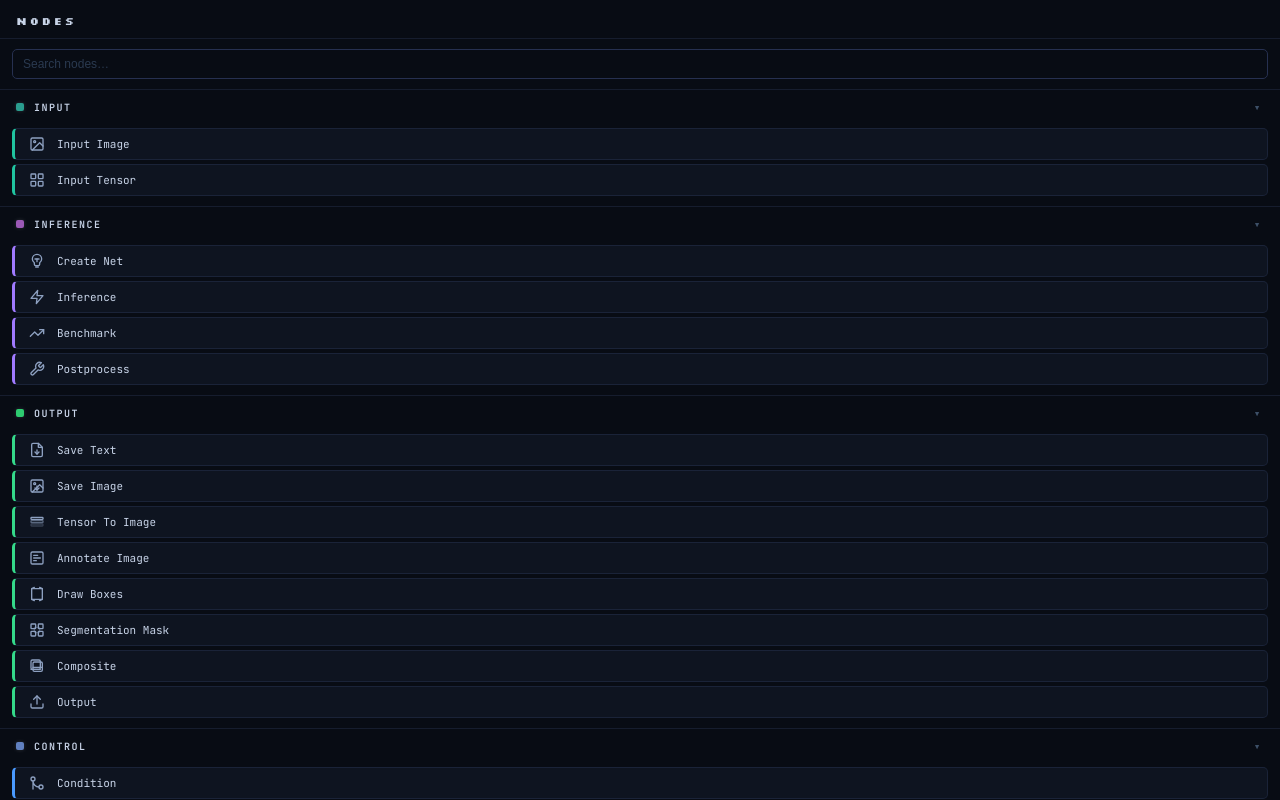
Test: NodePalette search › Escape clears the query and restores the full list
In the field labelled "Search nodes": (640, 64) top-left (12, 49), bottom-right (1268, 79), type "zzzqqq__nope"
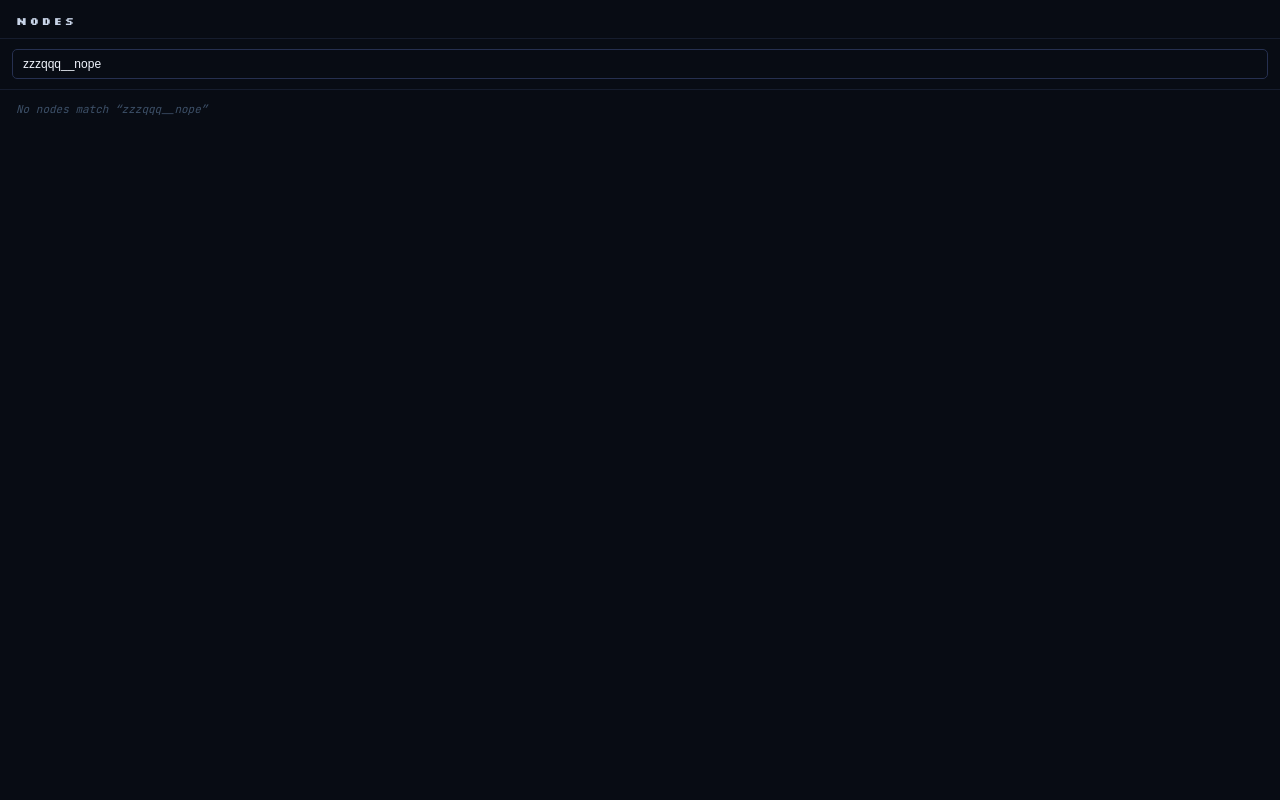
Now the text "No nodes match “zzzqqq__nope”" is shown, box top-left (16, 102), bottom-right (207, 116)
Press Escape in the field named "Search nodes", box top-left (12, 49), bottom-right (1268, 79)
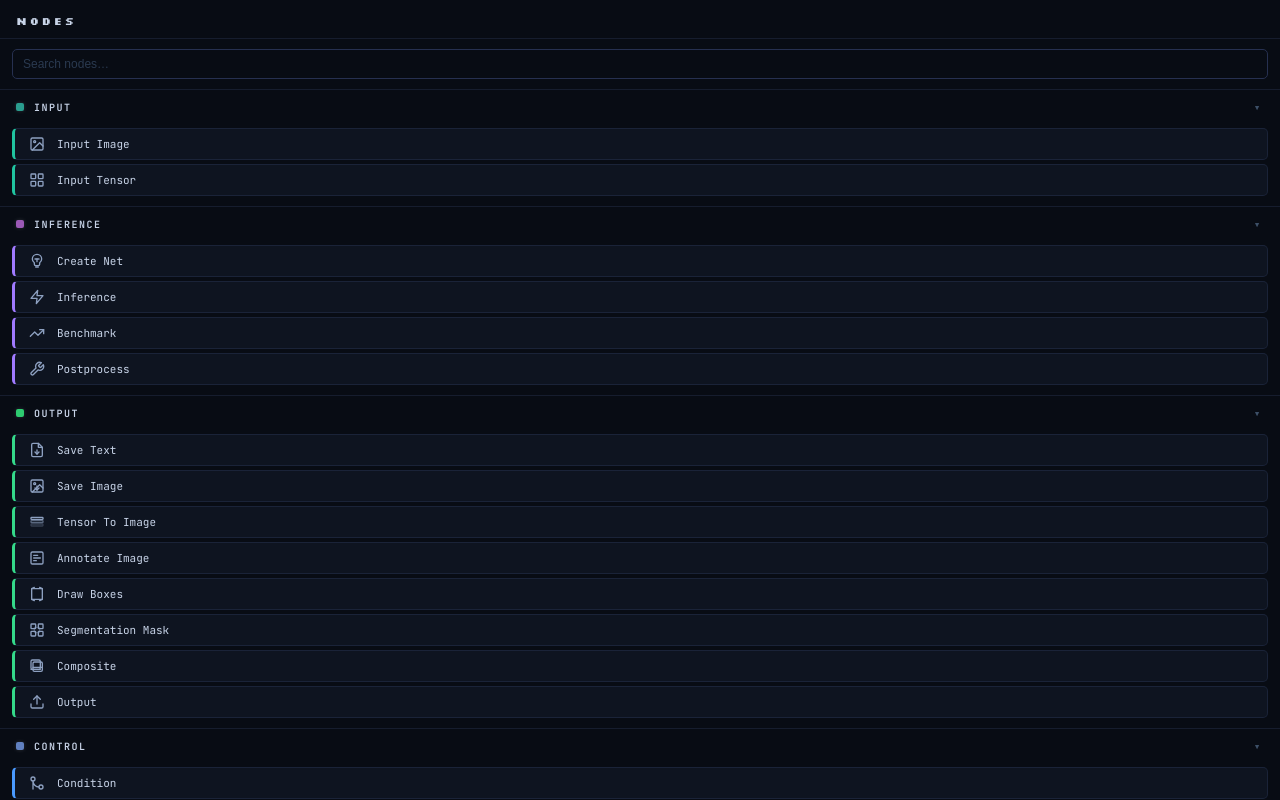
Now the field labelled "Search nodes" is empty, box top-left (12, 49), bottom-right (1268, 79)
Now the text "No nodes match" is gone
Now the text "Input Image" is shown, box top-left (57, 137), bottom-right (130, 151)
